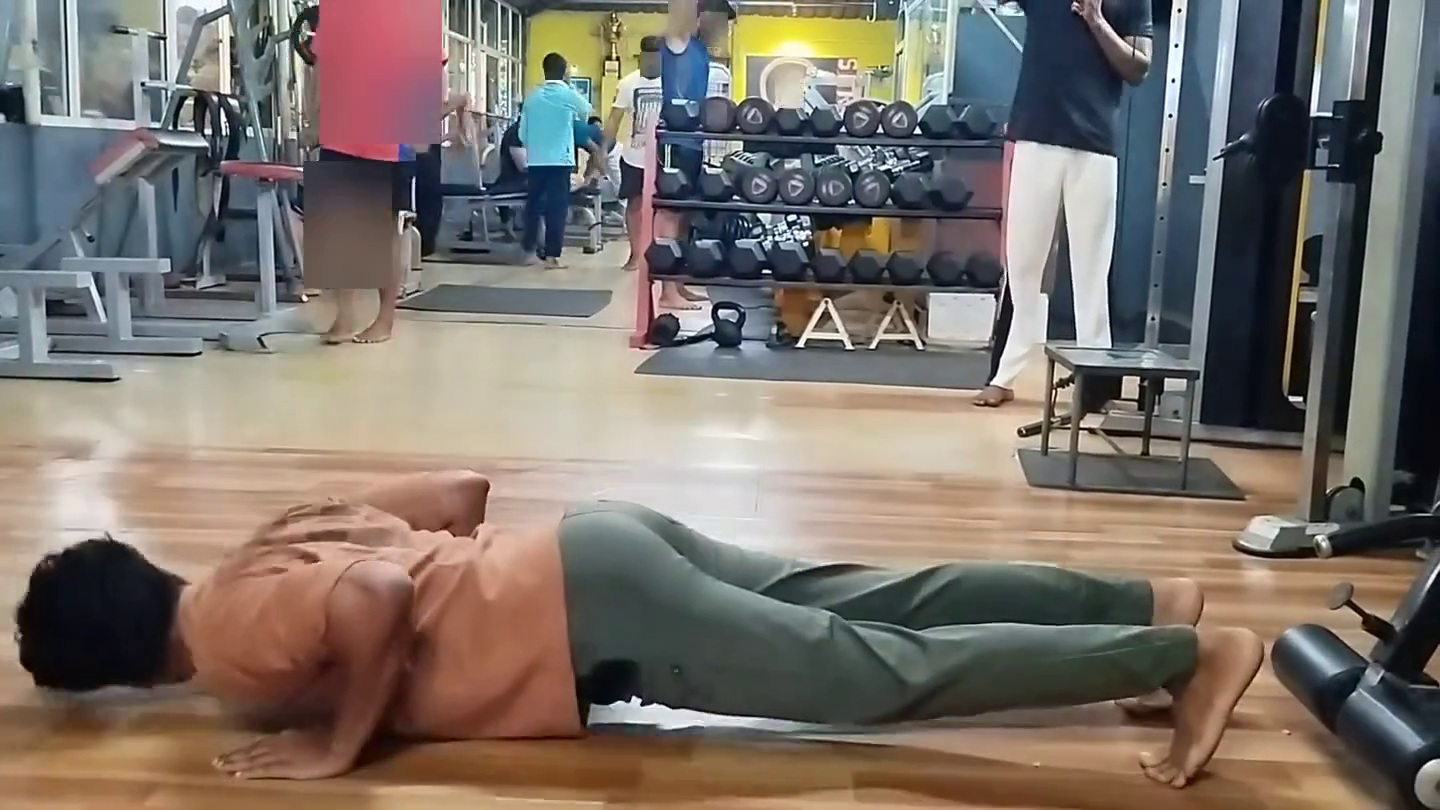push_up: (0, 444, 1371, 810)
